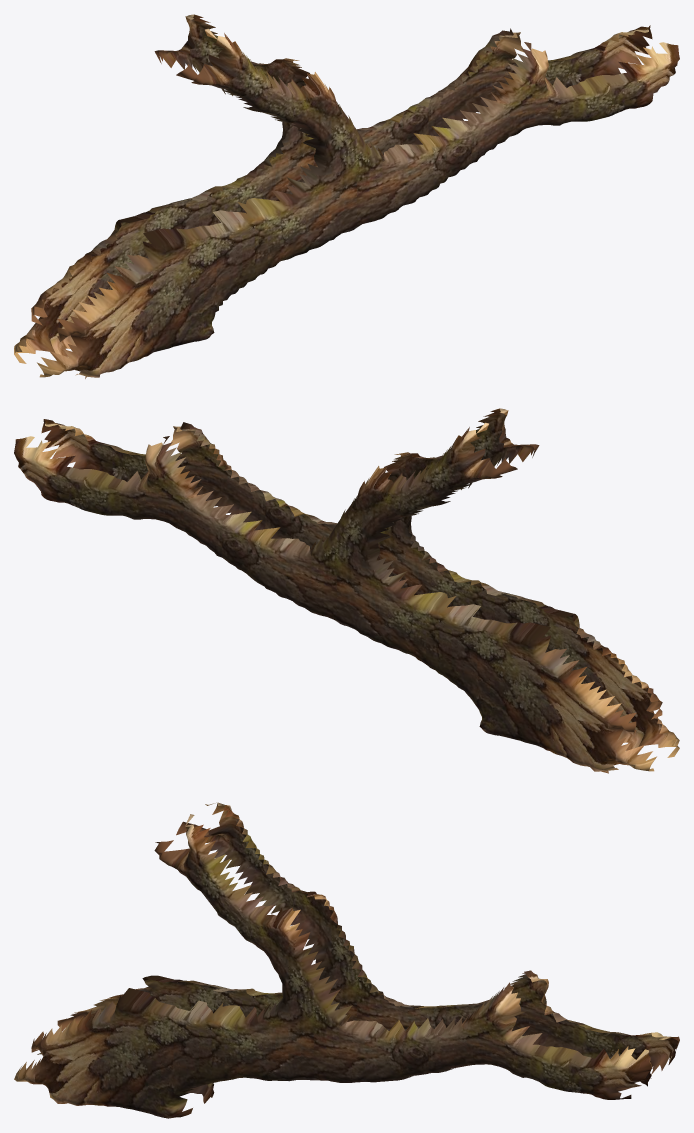
Rendered from v4-woodland-camp-scatter-fallen-branch.glb.
3 renders of one model, top to bottom at view 1: azimuth 30°, elevation 25°; view 2: azimuth 150°, elevation 25°; view 3: azimuth 330°, elevation 25°, orthographic.
Visible parts, largest first — view 1: v4-woodland-camp-scatter-fallen-branch; view 2: v4-woodland-camp-scatter-fallen-branch; view 3: v4-woodland-camp-scatter-fallen-branch.
Boxes of the visible parts, box(x1,y1,x2,y2) form: v4-woodland-camp-scatter-fallen-branch: box(14, 14, 679, 378); v4-woodland-camp-scatter-fallen-branch: box(14, 408, 679, 773); v4-woodland-camp-scatter-fallen-branch: box(14, 802, 679, 1118).
Bounding box in the file's own units: 0.713 × 0.3408 × 0.084.
1 material, 1 textured.
